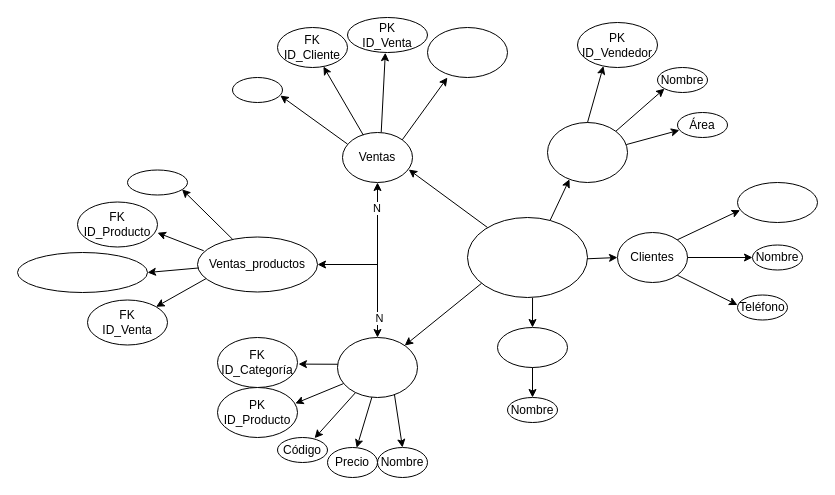
Some shapes in this 835 by 495 pixel diagram are drawn without their labels. Here are the shapes that lost their labels. From the top down, the centre of each, then its label:
[467,52]: FK ID_Vendedor
[257,89]: Fecha
[587,152]: Vendedores
[157,182]: Cantidad
[777,202]: PK ID_Cliente
[82,272]: PK ID_Venta_producto
[527,257]: Tienda_ropa
[377,367]: Productos
[532,347]: Categorias
